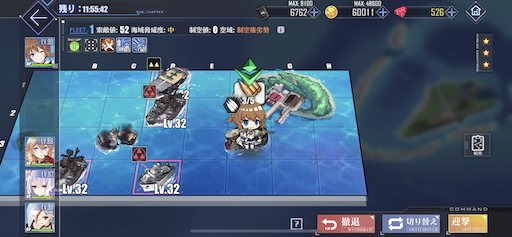lv3: (130, 145, 178, 195), (142, 85, 185, 128)
